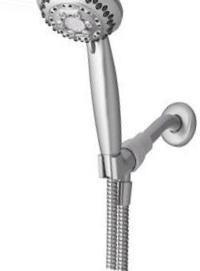Ducha: (11, 0, 199, 270)
